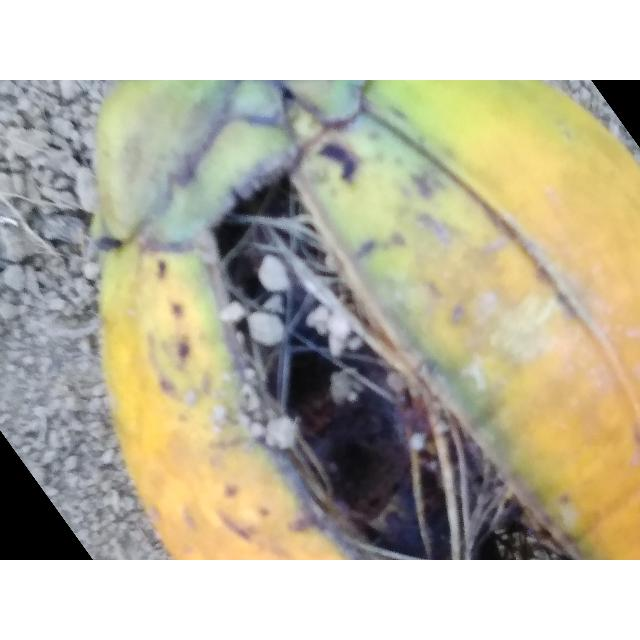damaged: (88, 80, 640, 560)
